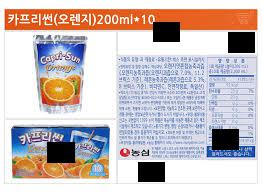cafrisun: (32, 32, 88, 113)
